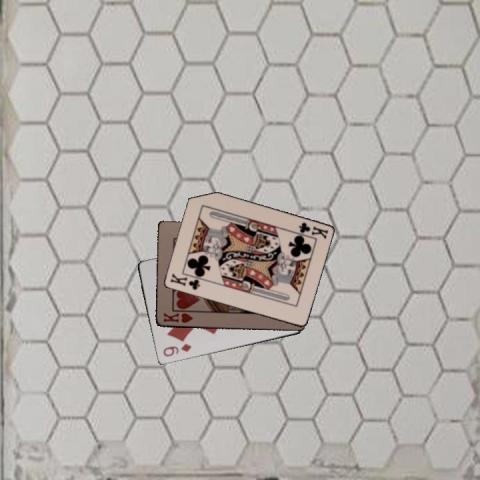9d: (160, 341, 193, 358)
Kc: (296, 219, 330, 241), (168, 271, 202, 291)
Kh: (160, 310, 195, 325)
